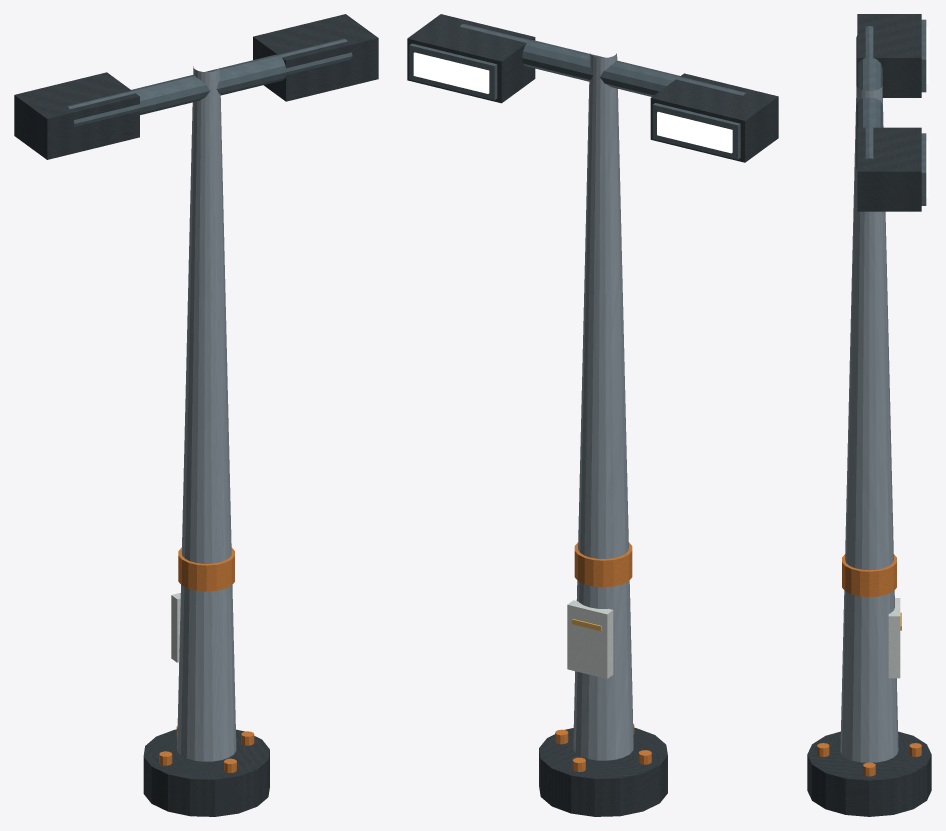
File: high_light_post.glb
The picture shows the model from 3 angles, left to right: view 1: azimuth 30°, elevation 25°; view 2: azimuth 150°, elevation 25°; view 3: azimuth 270°, elevation 25°; orthographic projection. The views are drawn at different scales.
Parts seen in each view (by area): view 1: tapered_light_mast_steel, light_head_case_graphite, foundation_graphite, overhead_crossbar_metal_dark, pole_collar_orange; view 2: tapered_light_mast_steel, light_head_case_graphite, foundation_graphite, overhead_crossbar_metal_dark, light_diffuser_lamp, light_head_trim_metal_dark, pole_access_ceramic, pole_collar_orange; view 3: tapered_light_mast_steel, light_head_case_graphite, foundation_graphite, overhead_crossbar_metal_dark, pole_collar_orange, pole_access_ceramic, light_head_trim_metal_dark, anchor_bolts_orange, light_diffuser_lamp.
Boxes of the visible parts, box(x1,y1,x2,y2) form: tapered_light_mast_steel: box(177, 66, 236, 761); light_head_case_graphite: box(14, 14, 378, 159); foundation_graphite: box(143, 729, 269, 816); overhead_crossbar_metal_dark: box(66, 38, 352, 126); pole_collar_orange: box(178, 547, 234, 591); tapered_light_mast_steel: box(573, 53, 633, 760); light_head_case_graphite: box(407, 14, 778, 162); foundation_graphite: box(539, 727, 667, 816); overhead_crossbar_metal_dark: box(460, 24, 746, 96); light_diffuser_lamp: box(413, 52, 732, 153); light_head_trim_metal_dark: box(409, 43, 740, 159); pole_access_ceramic: box(567, 600, 613, 678); pole_collar_orange: box(574, 542, 632, 587); tapered_light_mast_steel: box(840, 86, 898, 762); light_head_case_graphite: box(857, 14, 921, 211); foundation_graphite: box(807, 731, 931, 816); overhead_crossbar_metal_dark: box(856, 26, 882, 171); pole_collar_orange: box(842, 554, 896, 597); pole_access_ceramic: box(888, 598, 900, 678); light_head_trim_metal_dark: box(921, 19, 926, 205); anchor_bolts_orange: box(817, 743, 921, 776); light_diffuser_lamp: box(926, 27, 928, 197).
Size of the model in its own units: 1.86 by 3.88 by 0.62.
7 materials, 7 textured.
